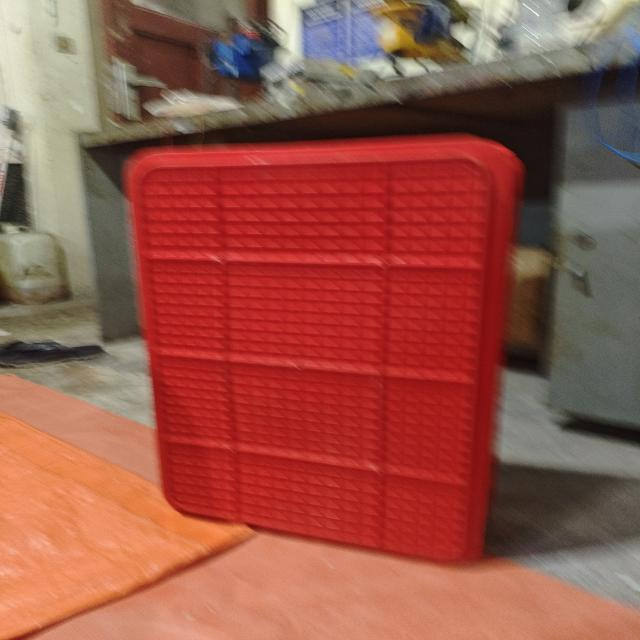red plastic box: (120, 132, 524, 566)
